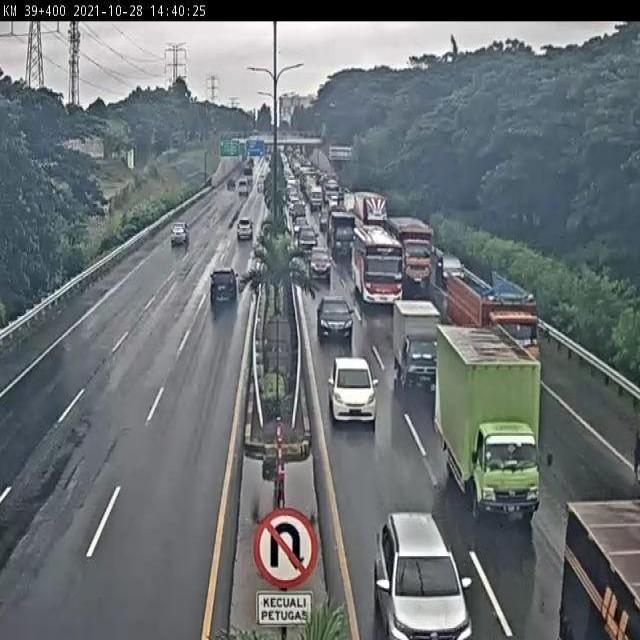bus-l-: (351, 221, 403, 304)
car: (328, 357, 376, 424), (318, 296, 353, 341), (206, 259, 238, 300), (437, 249, 464, 283), (310, 246, 332, 278), (167, 222, 192, 250), (232, 215, 255, 242)
truck-l-: (445, 271, 545, 381), (388, 213, 432, 286)
truck-m-: (435, 324, 544, 520), (330, 208, 359, 255)
truck-s-: (392, 297, 442, 388)
